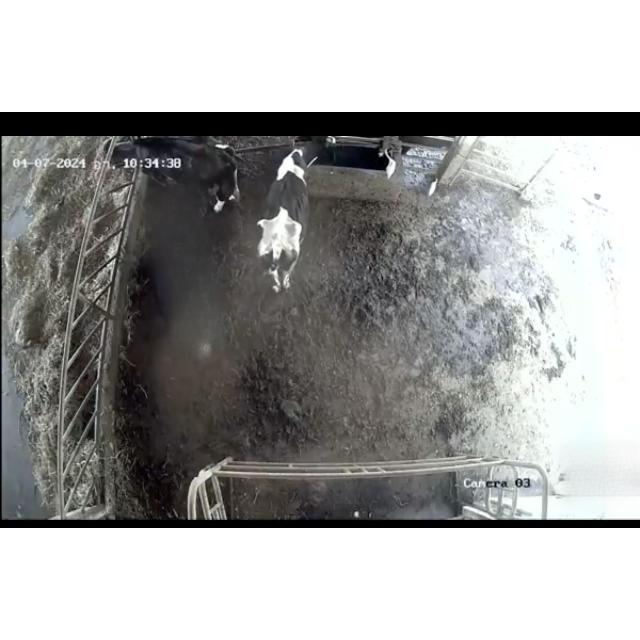drink: (288, 136, 352, 180)
eat: (78, 135, 164, 181)
